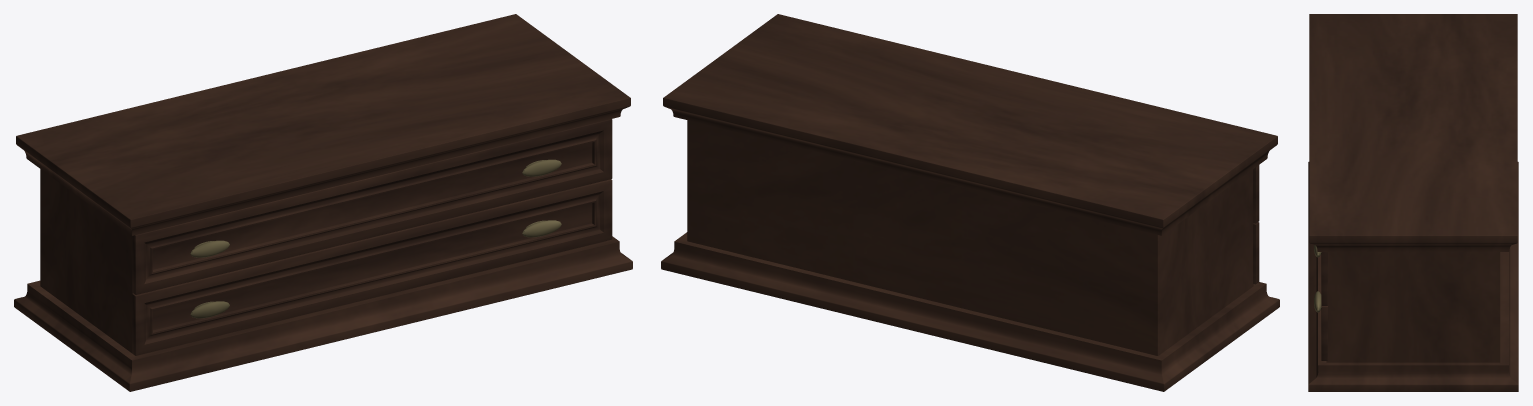
File: komod.fbx
3 renders of one model, left to right at view 1: azimuth 30°, elevation 25°; view 2: azimuth 150°, elevation 25°; view 3: azimuth 270°, elevation 25°, orthographic. The views are drawn at different scales.
Parts seen in each view (by area): view 1: Dresser; view 2: Dresser; view 3: Dresser.
Boxes of the visible parts, x1=… form: Dresser: x1=14, y1=14, x2=632, y2=391; Dresser: x1=661, y1=14, x2=1279, y2=391; Dresser: x1=1308, y1=14, x2=1518, y2=391.
Size of the model in its own units: 126 by 41.23 by 50.35.
1 material, 1 textured.
